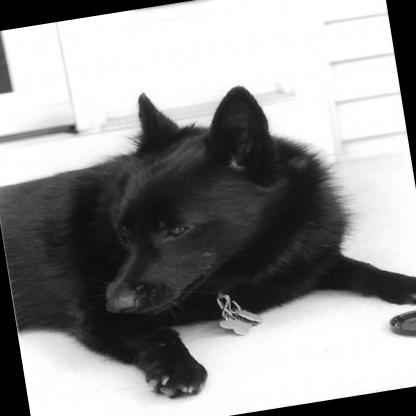schipperke: (0, 45, 416, 416)
